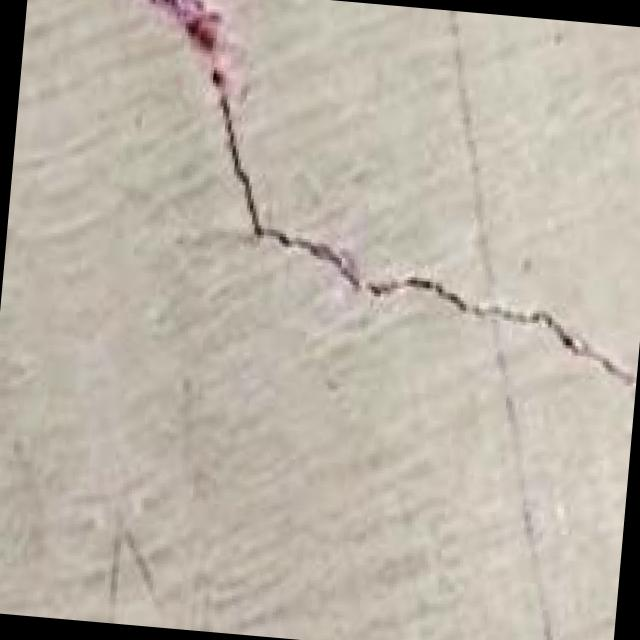crack: (116, 0, 640, 419)
